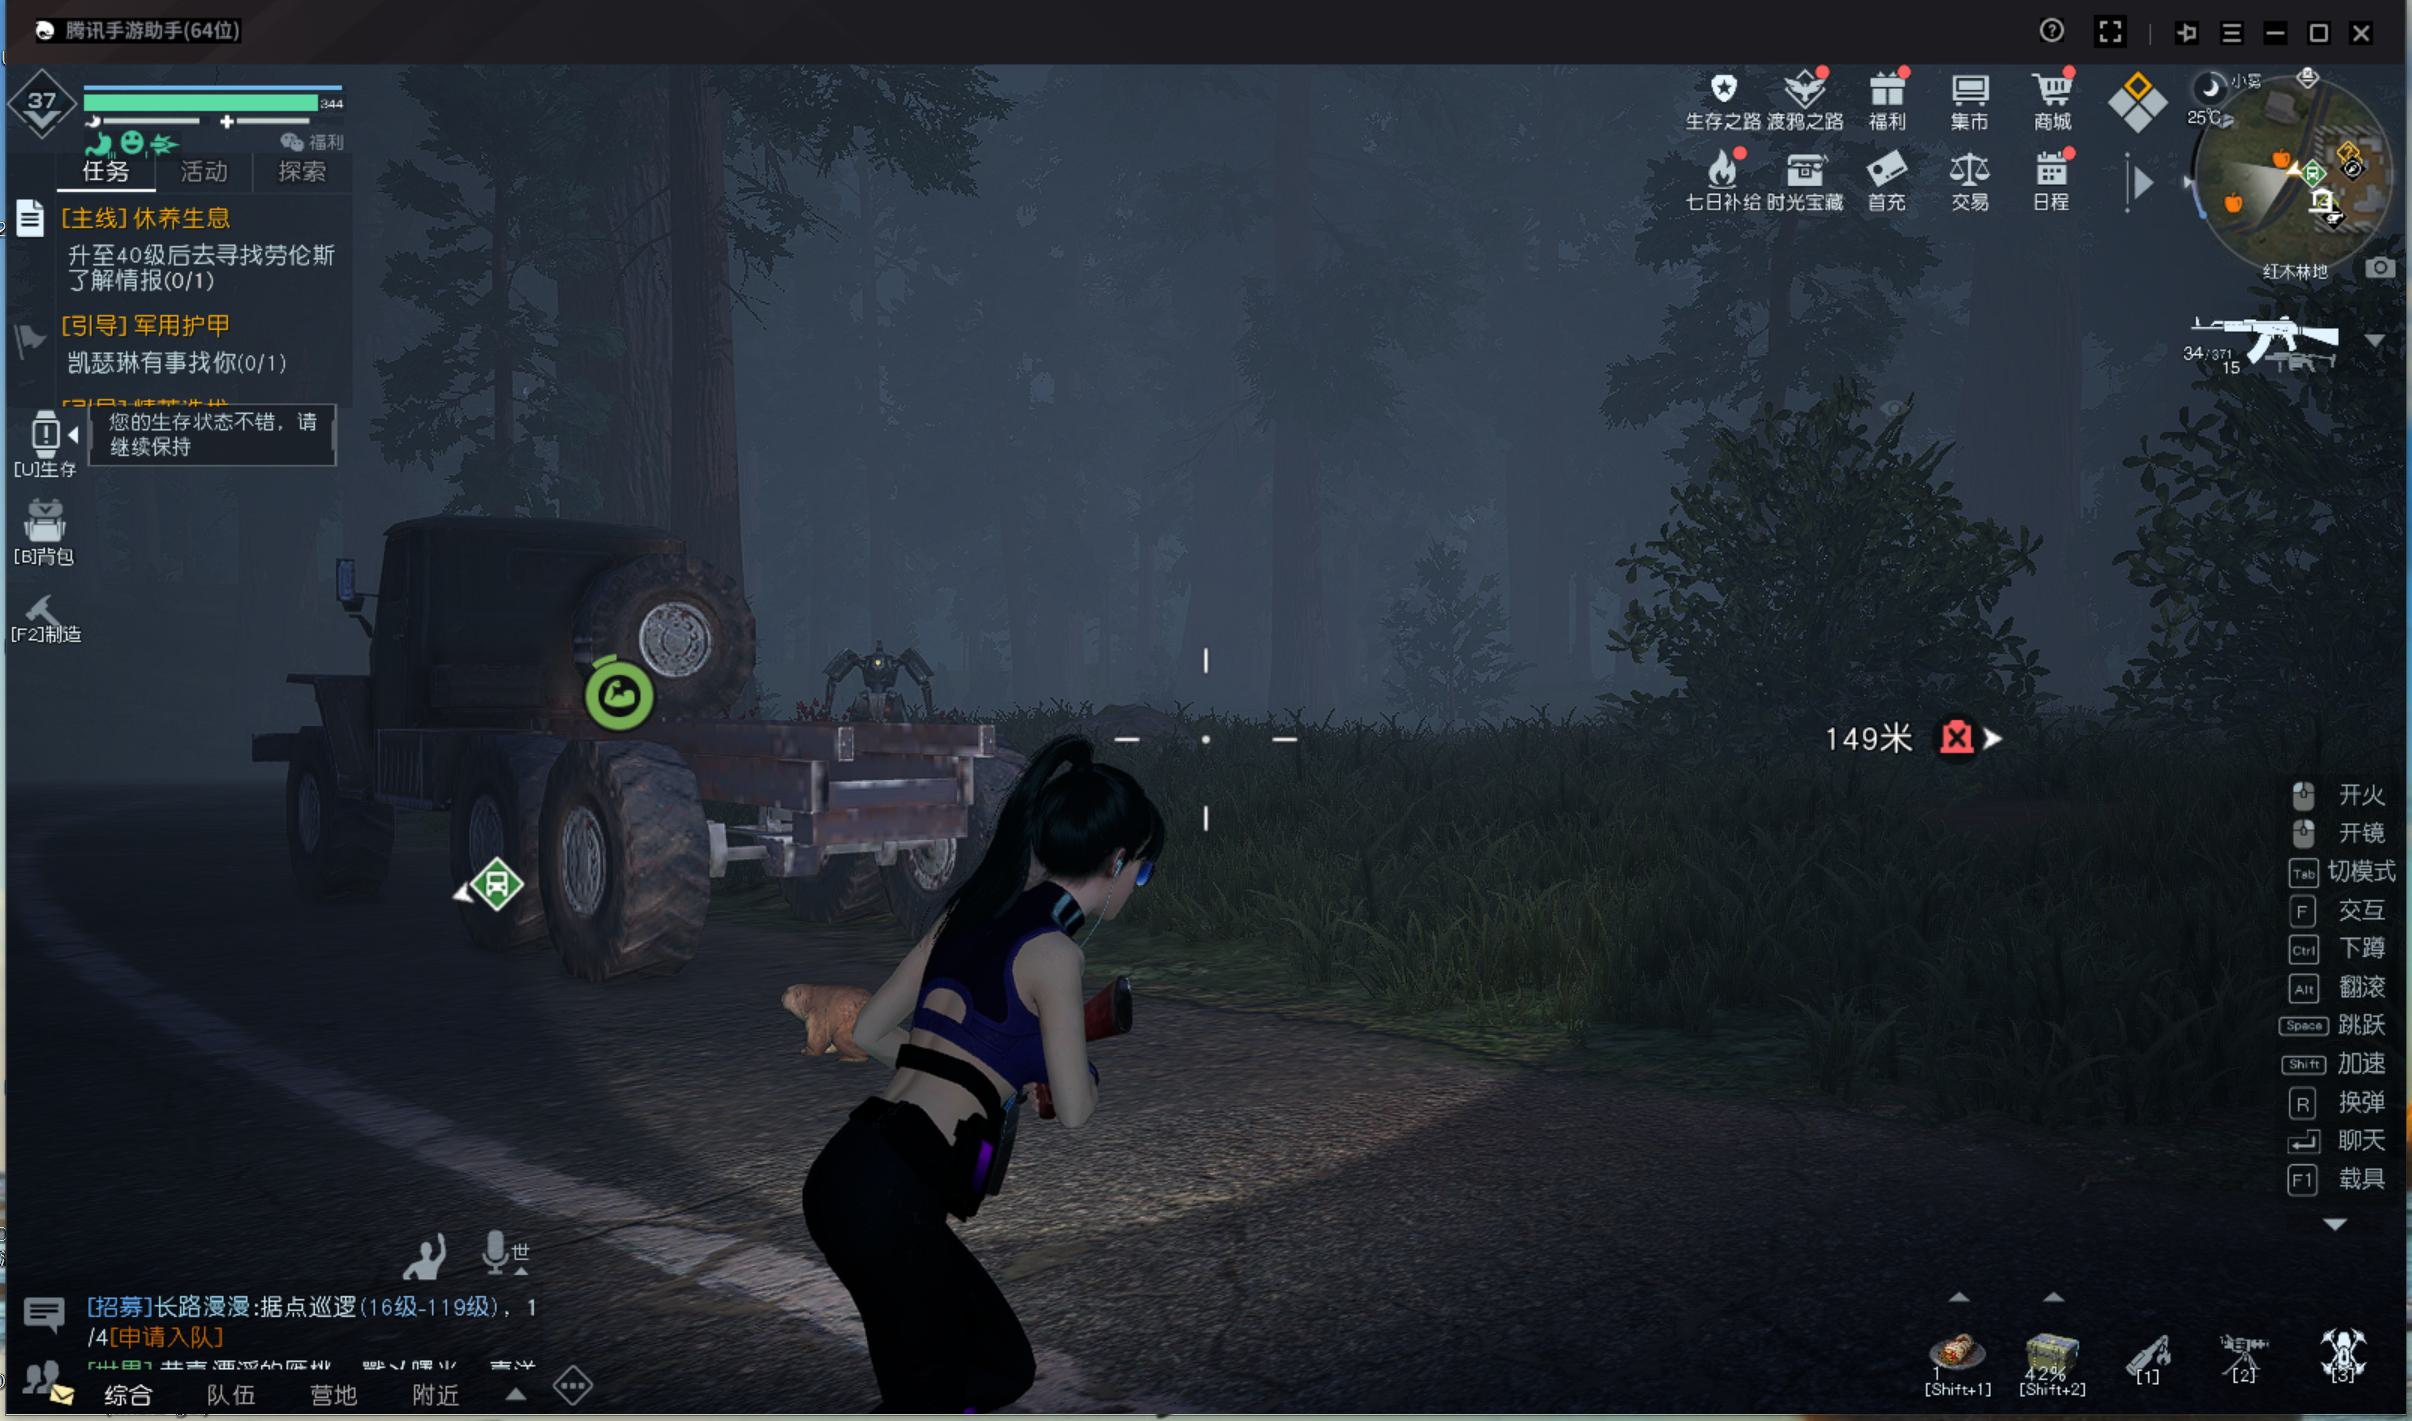tree: (661, 283, 759, 612), (1252, 474, 1346, 760)
